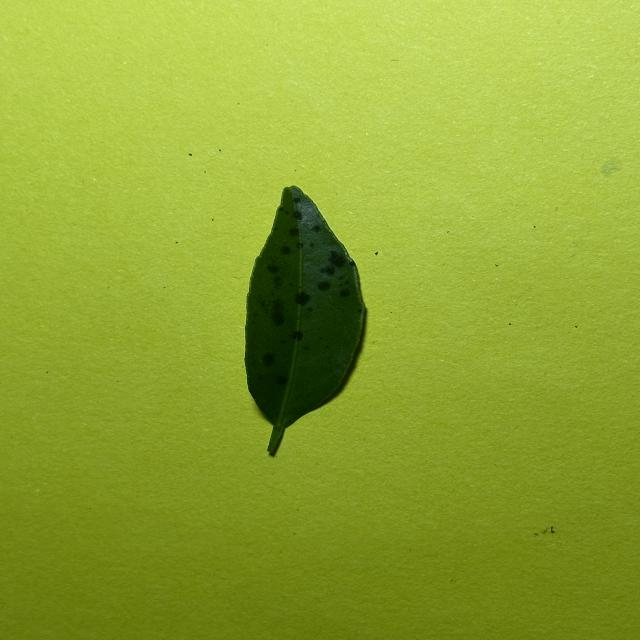sooty_mold: (245, 186, 364, 454)
